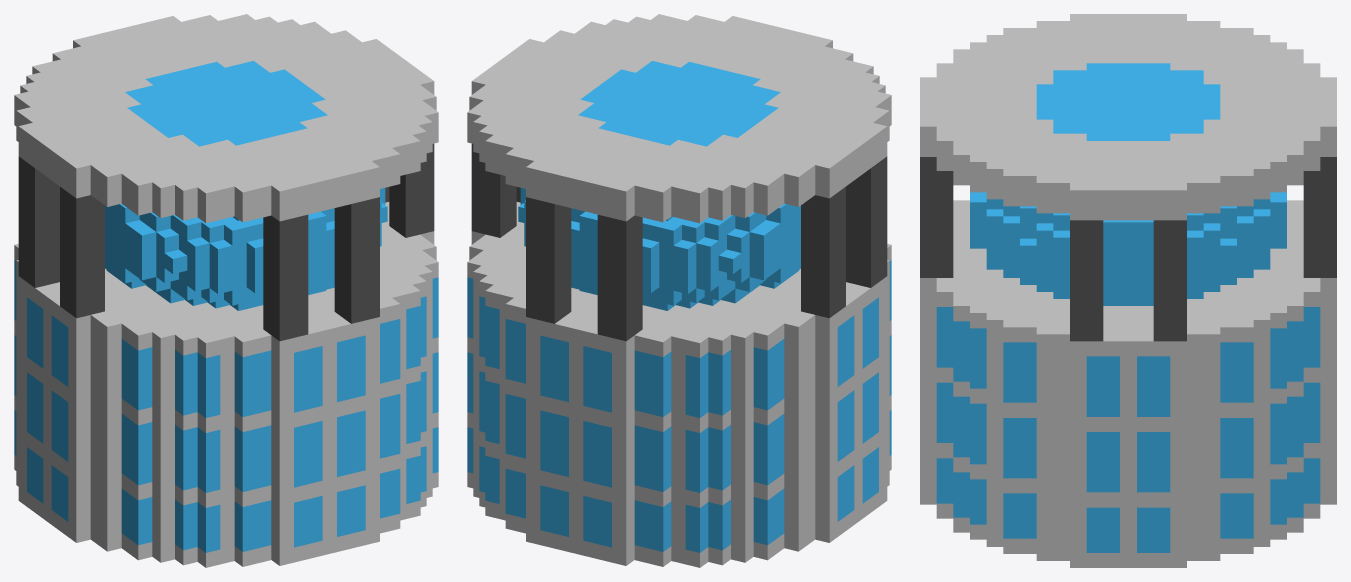
The model's file is TwentyOneModel.fbx.
3 renders of one model, left to right at view 1: azimuth 30°, elevation 25°; view 2: azimuth 150°, elevation 25°; view 3: azimuth 270°, elevation 25°, orthographic.
Visible parts, largest first — view 1: Cylinder; view 2: Cylinder; view 3: Cylinder.
Boxes of the visible parts, bbox=[...] form: Cylinder: bbox=[14, 14, 438, 567]; Cylinder: bbox=[467, 14, 891, 567]; Cylinder: bbox=[920, 14, 1336, 567].
Bounding box in the file's own units: 25 × 25 × 25.
1 material, 1 textured.
